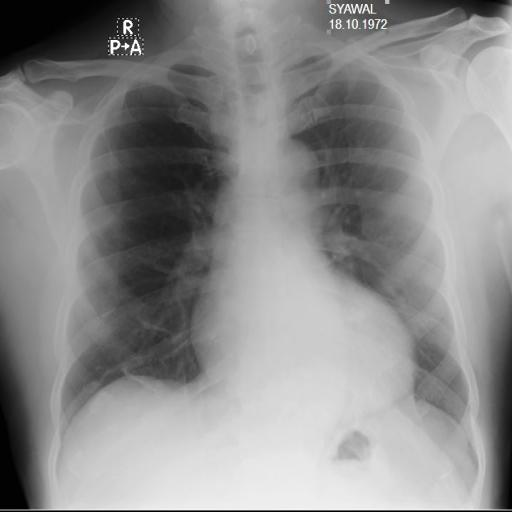kardiomegali: (40, 22, 490, 478)
